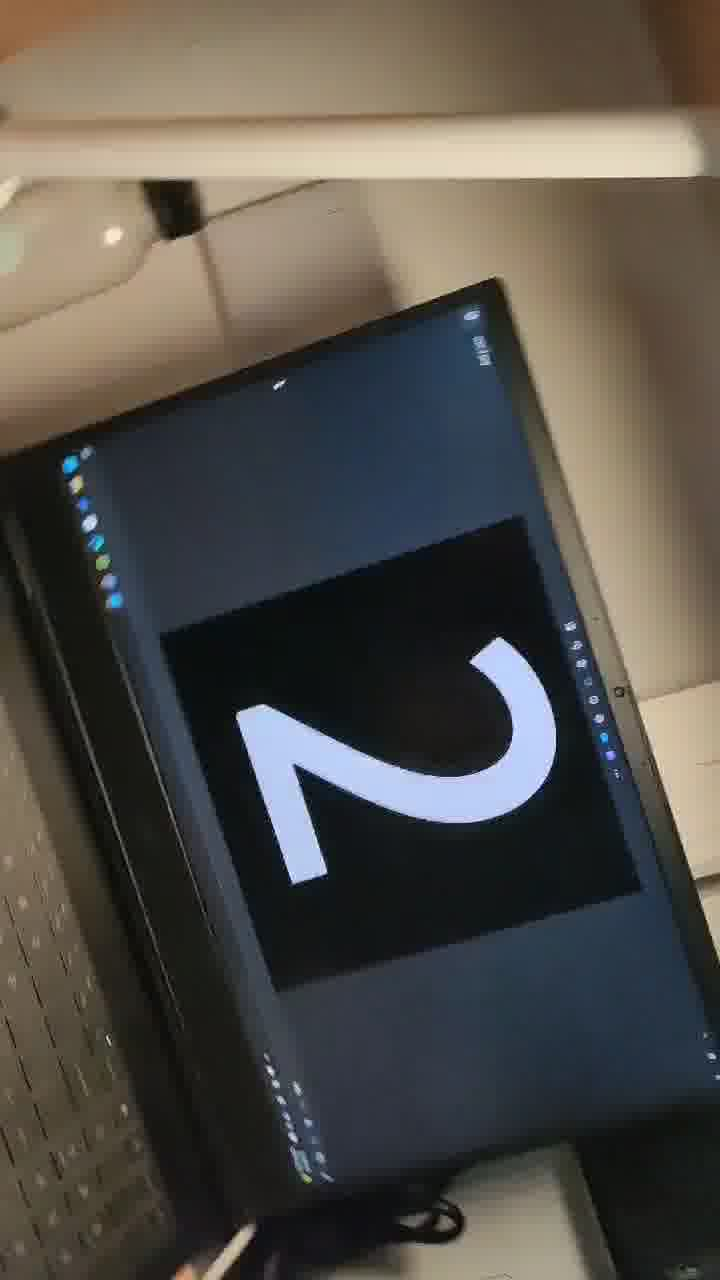two: (229, 529, 562, 997)
